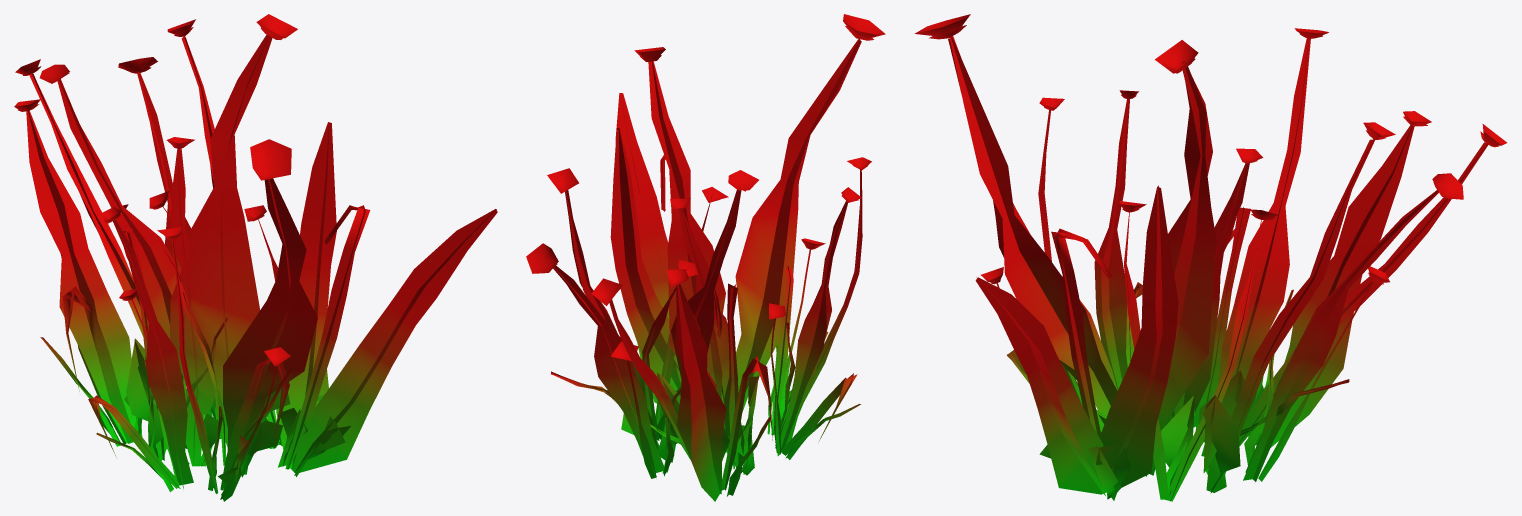
Rendered from White Everlasting_LOD2_Var4_ucvobbbia.fbx.
The picture shows the model from 3 angles, left to right: view 1: azimuth 30°, elevation 25°; view 2: azimuth 150°, elevation 25°; view 3: azimuth 270°, elevation 25°; orthographic projection. The views are drawn at different scales.
Parts seen in each view (by area): view 1: _e087_Var4_LOD2; view 2: _e087_Var4_LOD2; view 3: _e087_Var4_LOD2.
Part boxes in pixels (x1,y1,x2,y2): _e087_Var4_LOD2: (14,14,497,501); _e087_Var4_LOD2: (526,14,885,501); _e087_Var4_LOD2: (914,14,1507,501).
Size of the model in its own units: 47.3 by 58.85 by 68.96.
